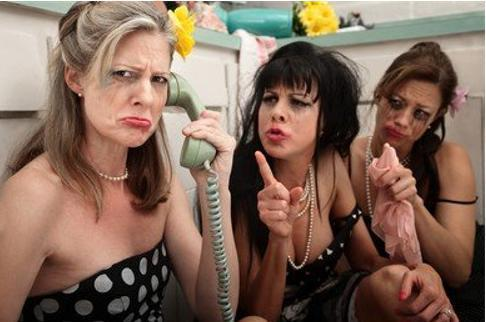Drunk: (92, 32, 169, 144), (258, 78, 318, 153), (382, 76, 439, 144)
